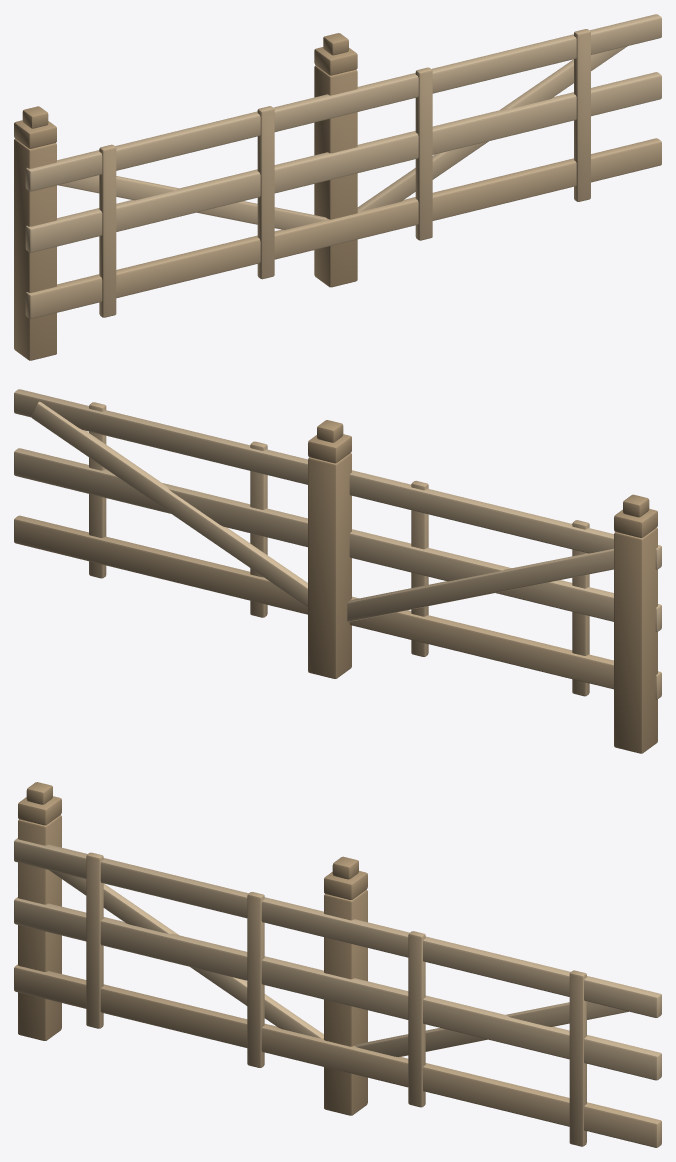
File: th18_zaun_modul.glb
The picture shows the model from 3 angles, top to bottom: view 1: azimuth 30°, elevation 25°; view 2: azimuth 150°, elevation 25°; view 3: azimuth 330°, elevation 25°; orthographic projection.
Visible parts, largest first — view 1: Cube.007, Cube.006, Cube.008, Cube, Cube.003, Cube.014, Cube.013, Cube.009, Cube.011, Cube.010, Cube.012, Cube.004 (+1 smaller); view 2: Cube.006, Cube.008, Cube.007, Cube, Cube.003, Cube.014, Cube.013, Cube.010, Cube.009, Cube.011, Cube.012, Cube.004 (+1 smaller); view 3: Cube.007, Cube.006, Cube.008, Cube, Cube.003, Cube.013, Cube.014, Cube.011, Cube.012, Cube.010, Cube.009, Cube.001 (+1 smaller).
Part boxes in pixels (x1,y1,x2,y2): Cube.007: (25,72,661,252); Cube.006: (25,138,661,318); Cube.008: (25,14,661,191); Cube: (14,138,56,360); Cube.003: (314,65,357,287); Cube.014: (357,46,627,211); Cube.013: (58,175,326,229); Cube.009: (99,144,116,317); Cube.011: (415,67,432,240); Cube.010: (257,106,274,279); Cube.012: (574,29,590,201); Cube.004: (314,47,357,75); Cube.006: (14,515,661,699); Cube.008: (14,389,661,569); Cube.007: (14,448,661,631); Cube: (614,527,657,753); Cube.003: (308,453,351,678); Cube.014: (31,401,307,607); Cube.013: (347,548,613,621); Cube.010: (411,480,428,656); Cube.009: (572,520,589,696); Cube.011: (250,441,267,617); Cube.012: (89,402,106,578); Cube.004: (308,434,351,463); Cube.007: (14,897,661,1080); Cube.006: (14,964,661,1147); Cube.008: (14,838,661,1017); Cube: (18,815,61,1040); Cube.003: (324,889,367,1115); Cube.013: (49,870,323,1038); Cube.014: (355,1001,628,1057); Cube.011: (408,931,425,1107); Cube.012: (569,970,586,1146); Cube.010: (247,892,264,1067); Cube.009: (86,852,103,1028); Cube.001: (18,796,61,825).
Bounding box in the file's own units: 4 × 1.46 × 0.215.
